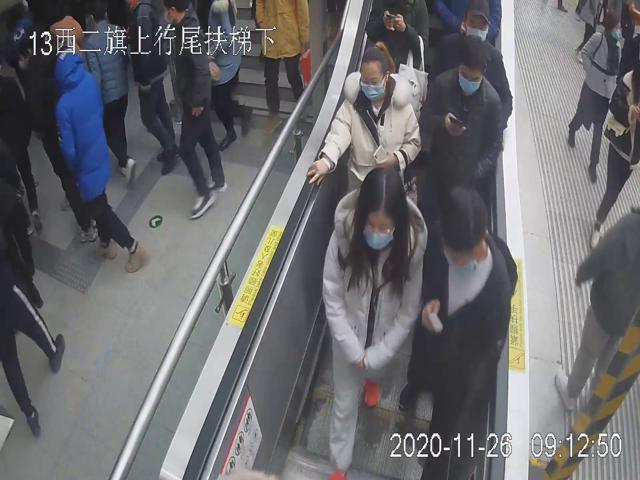person: (398, 183, 518, 480), (322, 162, 429, 480), (306, 36, 422, 189), (421, 45, 506, 185), (424, 0, 514, 123), (565, 8, 626, 183)
